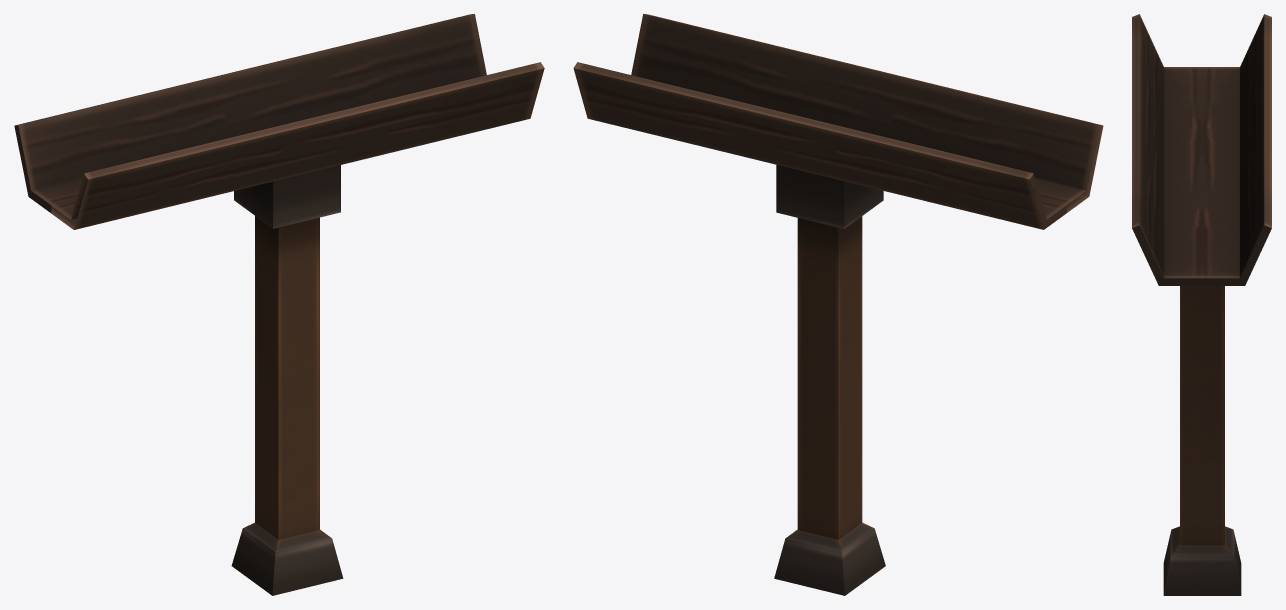
Rendered from Wheel_Water_Filmn_05.FBX.
The picture shows the model from 3 angles, left to right: view 1: azimuth 30°, elevation 25°; view 2: azimuth 150°, elevation 25°; view 3: azimuth 270°, elevation 25°; orthographic projection. The views are drawn at different scales.
Parts seen in each view (by area): view 1: Wheel_Water_Filmn_05; view 2: Wheel_Water_Filmn_05; view 3: Wheel_Water_Filmn_05.
Boxes of the visible parts, left/top/right/bottom form: Wheel_Water_Filmn_05: left=14, top=14, right=544, bottom=595; Wheel_Water_Filmn_05: left=573, top=14, right=1103, bottom=595; Wheel_Water_Filmn_05: left=1132, top=14, right=1271, bottom=595.
Bounding box in the file's own units: 210 × 212 × 58.83.
